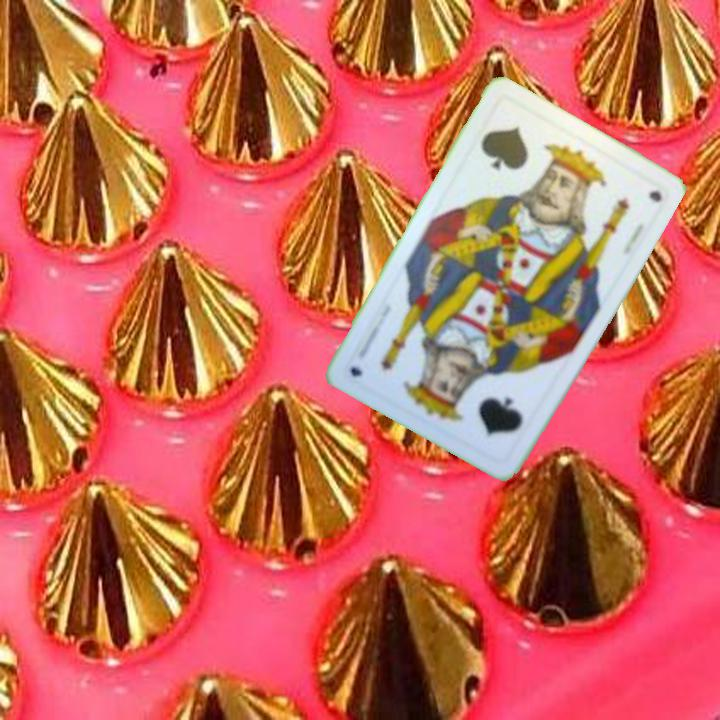s_k.png: (424, 345, 552, 467), (459, 94, 587, 216)
